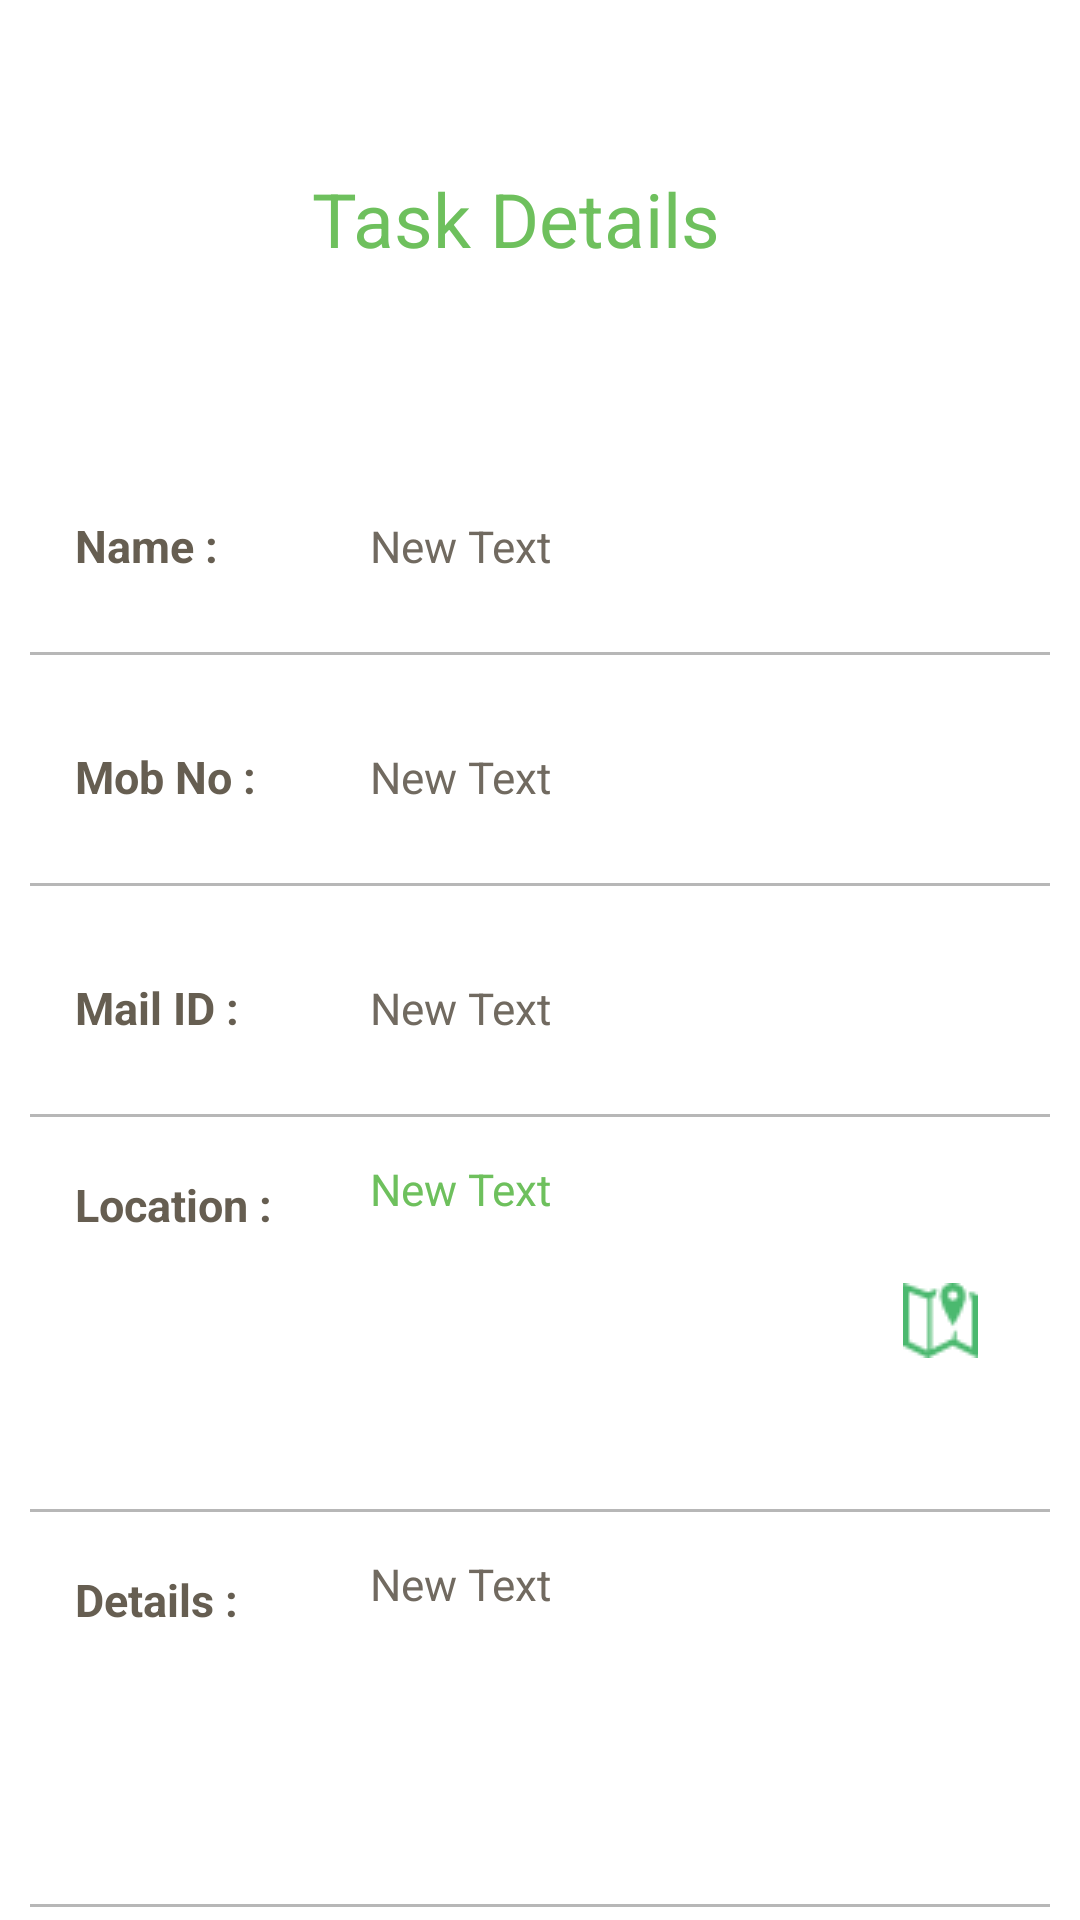

Screen size 1080px×1920px. Icon name, then its center in pixels as (x,y):
map: (940,1320)
